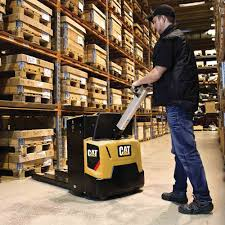Pallet Jack: (28, 82, 155, 202)
